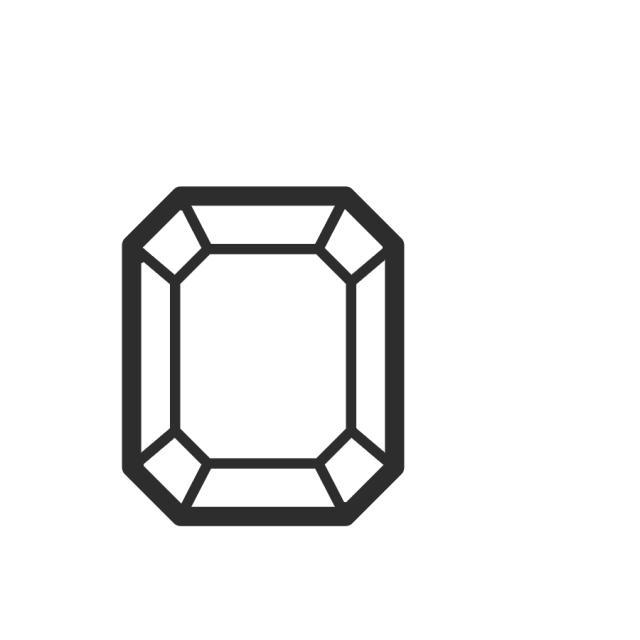emerald: (115, 180, 411, 537)
